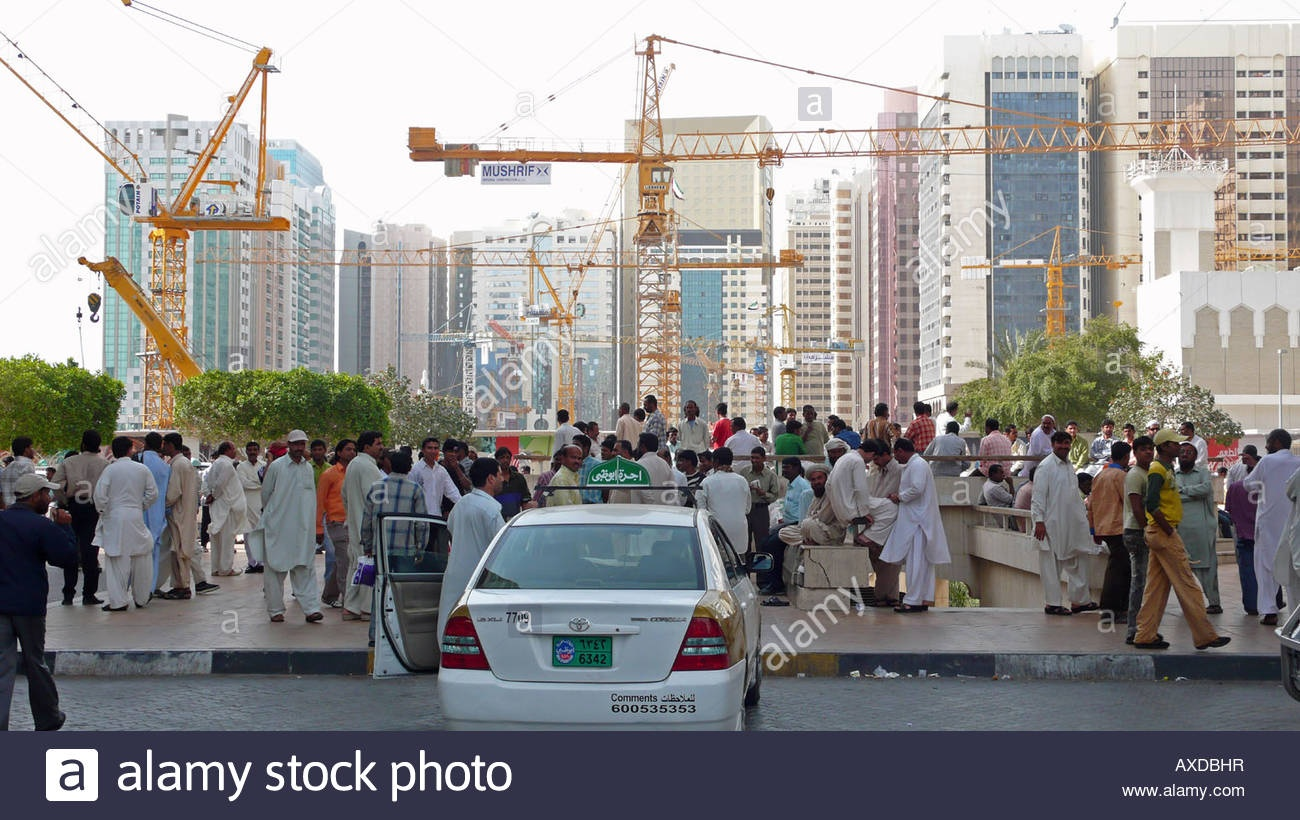none: (12, 469, 53, 515), (469, 456, 504, 496), (354, 428, 385, 459), (1263, 426, 1293, 455), (1153, 428, 1181, 459), (806, 462, 829, 495), (108, 433, 135, 461), (387, 448, 413, 477), (1131, 434, 1155, 465), (10, 434, 36, 462), (635, 431, 660, 460), (78, 427, 103, 455), (1049, 429, 1073, 458), (891, 435, 915, 464), (333, 437, 357, 466), (1174, 439, 1198, 467), (161, 429, 184, 458), (674, 447, 698, 474), (559, 444, 583, 471), (824, 436, 847, 464), (710, 445, 734, 471), (1110, 439, 1132, 465), (419, 435, 441, 461), (307, 436, 328, 462), (857, 436, 877, 463), (871, 438, 890, 466), (215, 438, 238, 461), (779, 455, 801, 479), (142, 430, 163, 454), (441, 436, 460, 462), (610, 438, 632, 460), (571, 433, 591, 457), (492, 445, 512, 468), (242, 439, 261, 463), (1241, 441, 1258, 465), (748, 445, 766, 467), (728, 416, 748, 435), (597, 439, 615, 460), (697, 448, 713, 471), (1038, 414, 1057, 433), (1098, 417, 1116, 437), (982, 415, 1000, 435), (872, 401, 890, 420), (783, 419, 802, 437), (800, 403, 817, 423), (988, 463, 1005, 482), (1121, 421, 1137, 441), (682, 398, 698, 418), (829, 418, 846, 436), (1179, 420, 1195, 439), (584, 419, 600, 438), (642, 393, 657, 413), (911, 399, 927, 417), (1003, 422, 1018, 441), (555, 407, 570, 426), (944, 419, 960, 436), (1063, 418, 1078, 436), (755, 424, 770, 442), (772, 405, 787, 421), (714, 402, 729, 418), (665, 426, 679, 443), (945, 399, 958, 417), (617, 401, 631, 417), (784, 405, 797, 420), (632, 407, 645, 422), (518, 464, 532, 477)
white: (285, 426, 309, 460), (1145, 419, 1160, 436)
